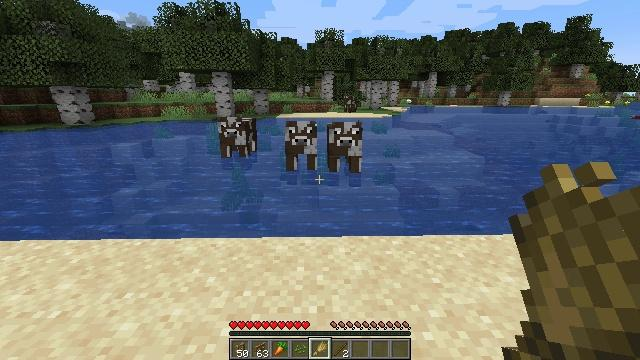cow: (326, 121, 360, 173), (219, 117, 257, 157), (286, 121, 317, 170), (343, 96, 357, 112)
